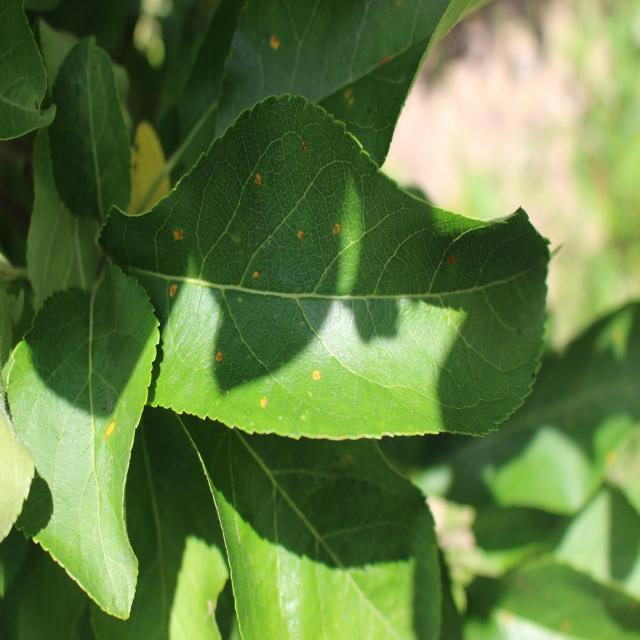Rust: (342, 85, 360, 111), (269, 30, 282, 59), (253, 164, 265, 193), (329, 220, 344, 243), (102, 419, 115, 444), (245, 264, 264, 280), (294, 228, 309, 248), (169, 225, 186, 242), (300, 136, 312, 160), (167, 279, 180, 301), (310, 370, 323, 389), (214, 348, 223, 370), (259, 395, 268, 412), (112, 286, 121, 300)
